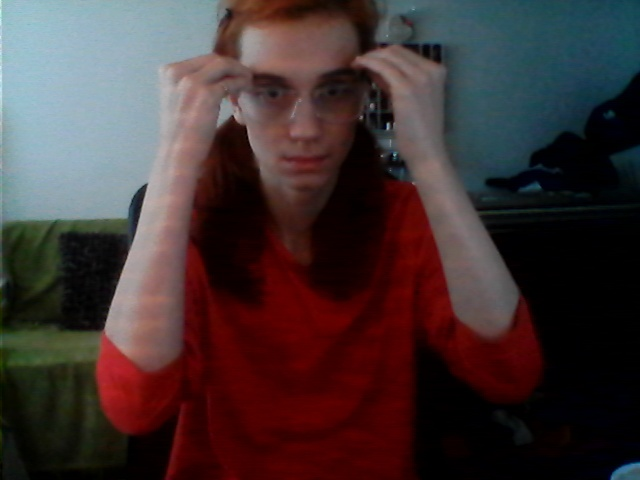ucit: (145, 38, 476, 106)
